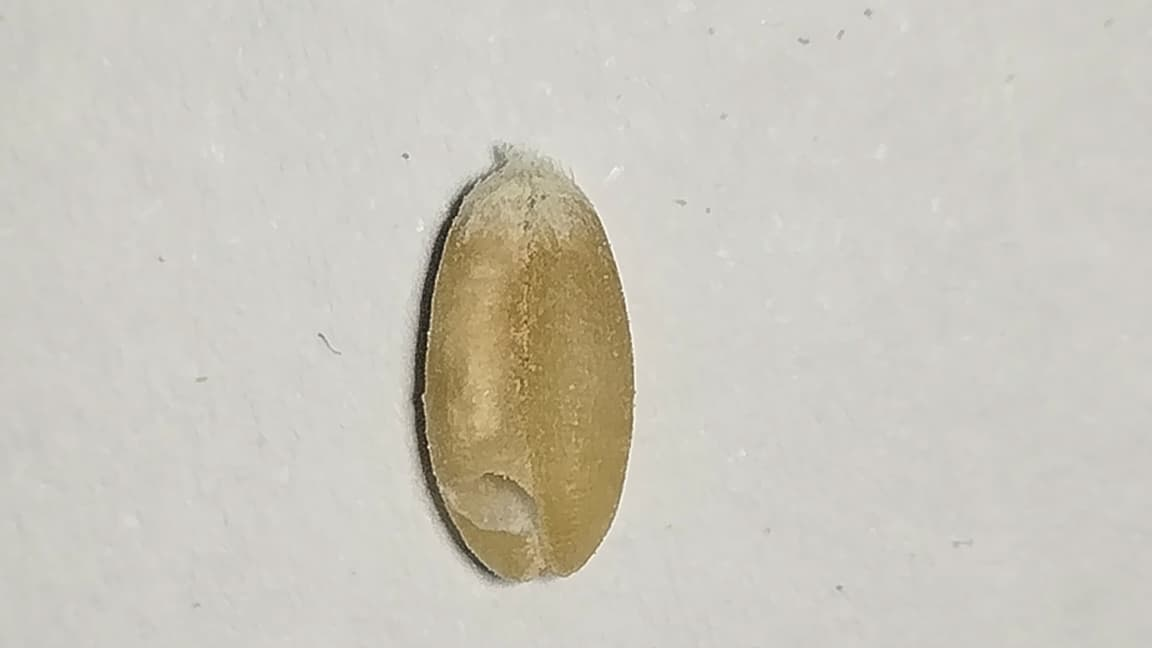damage: (423, 159, 631, 580)
insectdamage: (430, 439, 551, 539)
